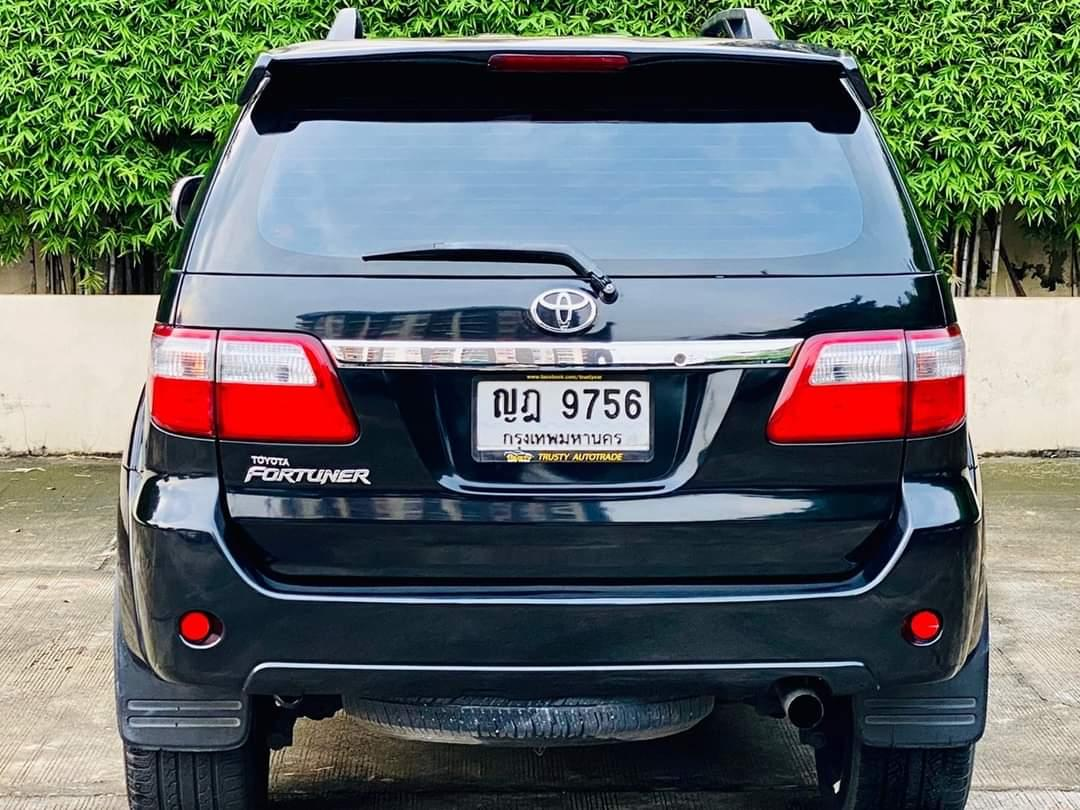license-plate: (470, 374, 655, 467)
